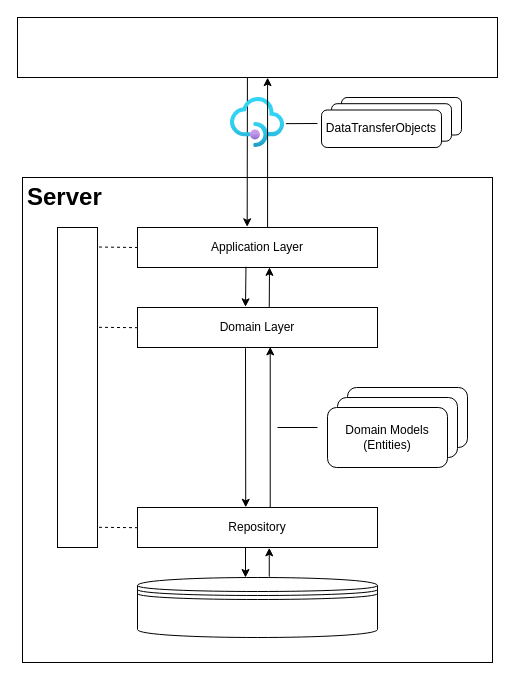
Image size: 515x680. Some labels were removed from this diagram. The centre of each missing label's shape, as x and y in pixels:
"Database Layer" belongs at (257,607).
"Presentation Layer" belongs at (257,47).
"System Layer" belongs at (77,387).
